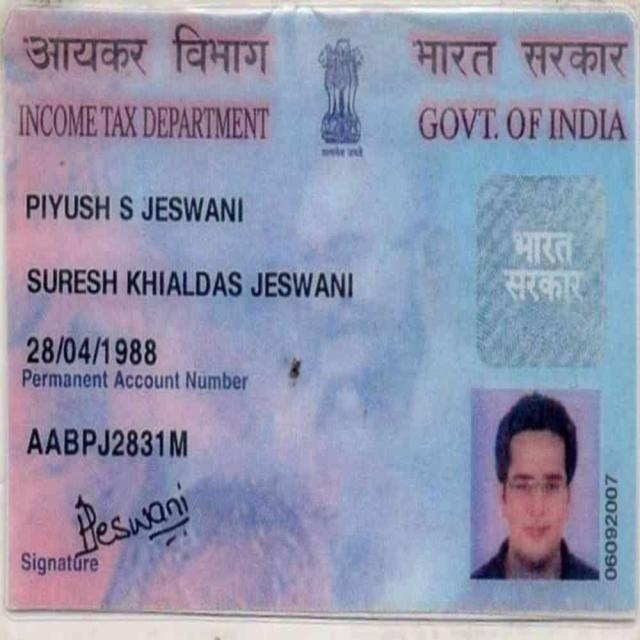pan_card: (5, 16, 635, 621)
